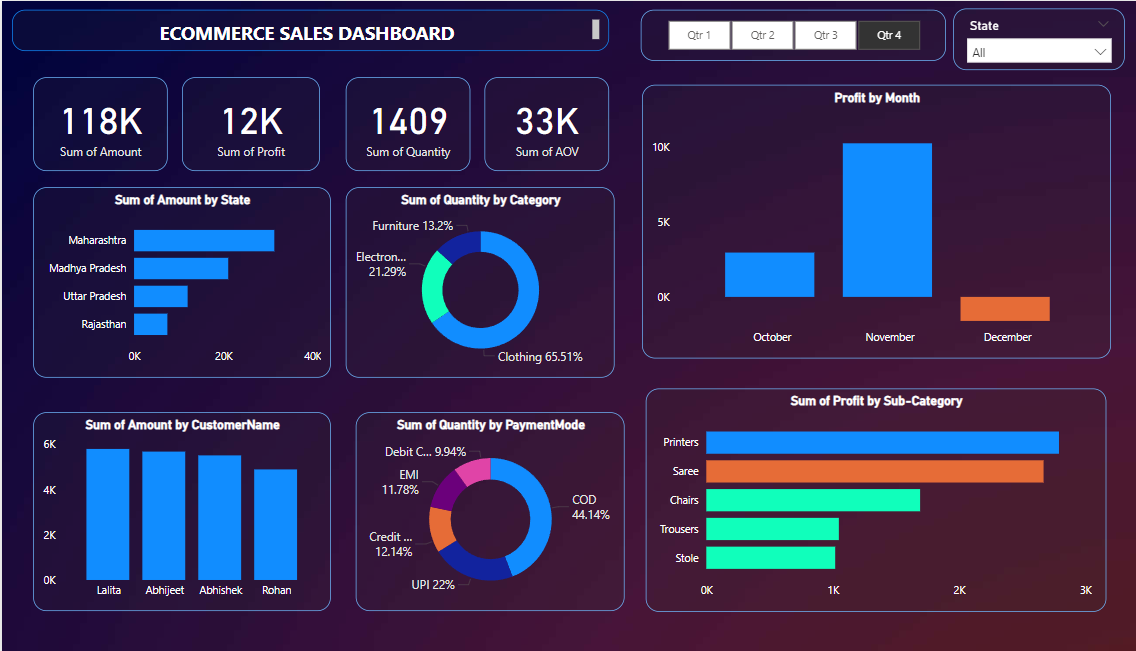

The page's visual inventory and layout, read from the dashboard file:
{"tool":"powerbi","page":{"name":"Page 1","canvas":[1300,750],"ordinal":0},"visuals":[{"type":"textbox","box":[11.2,10,682.5,47.5],"z":0},{"type":"columnChart","title":"Profit by Month","fields":{"Y":["Details.Profit"],"Category":["Orders.Order Date.Variation.Date Hierarchy.Month"]},"box":[731.2,96.2,536.2,312.5],"z":1000},{"type":"barChart","fields":{"Category":["Details.Sub-Category"],"Y":["Details.Profit"]},"box":[735,442.5,526.2,255],"z":2000},{"type":"donutChart","fields":{"Category":["Details.Category"],"Y":["Details.Quantity"]},"box":[392.5,212.5,307.5,217.5],"z":3000},{"type":"donutChart","fields":{"Y":["Details.Quantity"],"Category":["Details.PaymentMode"]},"box":[403.8,470,307.5,227.5],"z":4000},{"type":"card","fields":{"Values":["Details.Amount"]},"box":[36.2,87.5,153.8,107.5],"z":5000},{"type":"card","fields":{"Values":["Details.Profit"]},"box":[206.2,87.5,157.5,107.5],"z":6000},{"type":"card","fields":{"Values":["Details.AOV"]},"box":[551.2,87.5,142.5,107.5],"z":7000},{"type":"card","fields":{"Values":["Details.Quantity"]},"box":[392.5,87.5,142.5,107.5],"z":8000},{"type":"barChart","fields":{"Category":["Orders.State"],"Y":["Details.Amount"]},"box":[36.2,212.5,340,217.5],"z":9000},{"type":"columnChart","fields":{"Category":["Orders.CustomerName"],"Y":["Details.Amount"]},"box":[36.2,470,340,227.5],"z":10000},{"type":"slicer","fields":{"Values":["Orders.Order Date.Variation.Date Hierarchy.Quarter"]},"box":[730,10,348.8,58.8],"z":11000},{"type":"slicer","fields":{"Values":["Orders.State"]},"box":[1087.5,8.8,196.2,70],"z":12000}]}

Visuals, with their boxes in screenshot pixels (x1, y1, x2, y2), scaled from the page's 1300x750 canvas onto the 1136x651 screenshot:
textbox: <region>10, 9, 606, 50</region>
"Profit by Month" columnChart: <region>639, 84, 1108, 355</region>
barChart - Details.Sub-Category x Details.Profit: <region>642, 384, 1102, 605</region>
donutChart - Details.Category x Details.Quantity: <region>343, 184, 612, 373</region>
donutChart - Details.Quantity x Details.PaymentMode: <region>353, 408, 622, 605</region>
card - Details.Amount: <region>32, 76, 166, 169</region>
card - Details.Profit: <region>180, 76, 318, 169</region>
card - Details.AOV: <region>482, 76, 606, 169</region>
card - Details.Quantity: <region>343, 76, 468, 169</region>
barChart - Orders.State x Details.Amount: <region>32, 184, 329, 373</region>
columnChart - Orders.CustomerName x Details.Amount: <region>32, 408, 329, 605</region>
slicer - Orders.Order Date.Variation.Date Hierarchy.Quarter: <region>638, 9, 943, 60</region>
slicer - Orders.State: <region>950, 8, 1122, 68</region>
